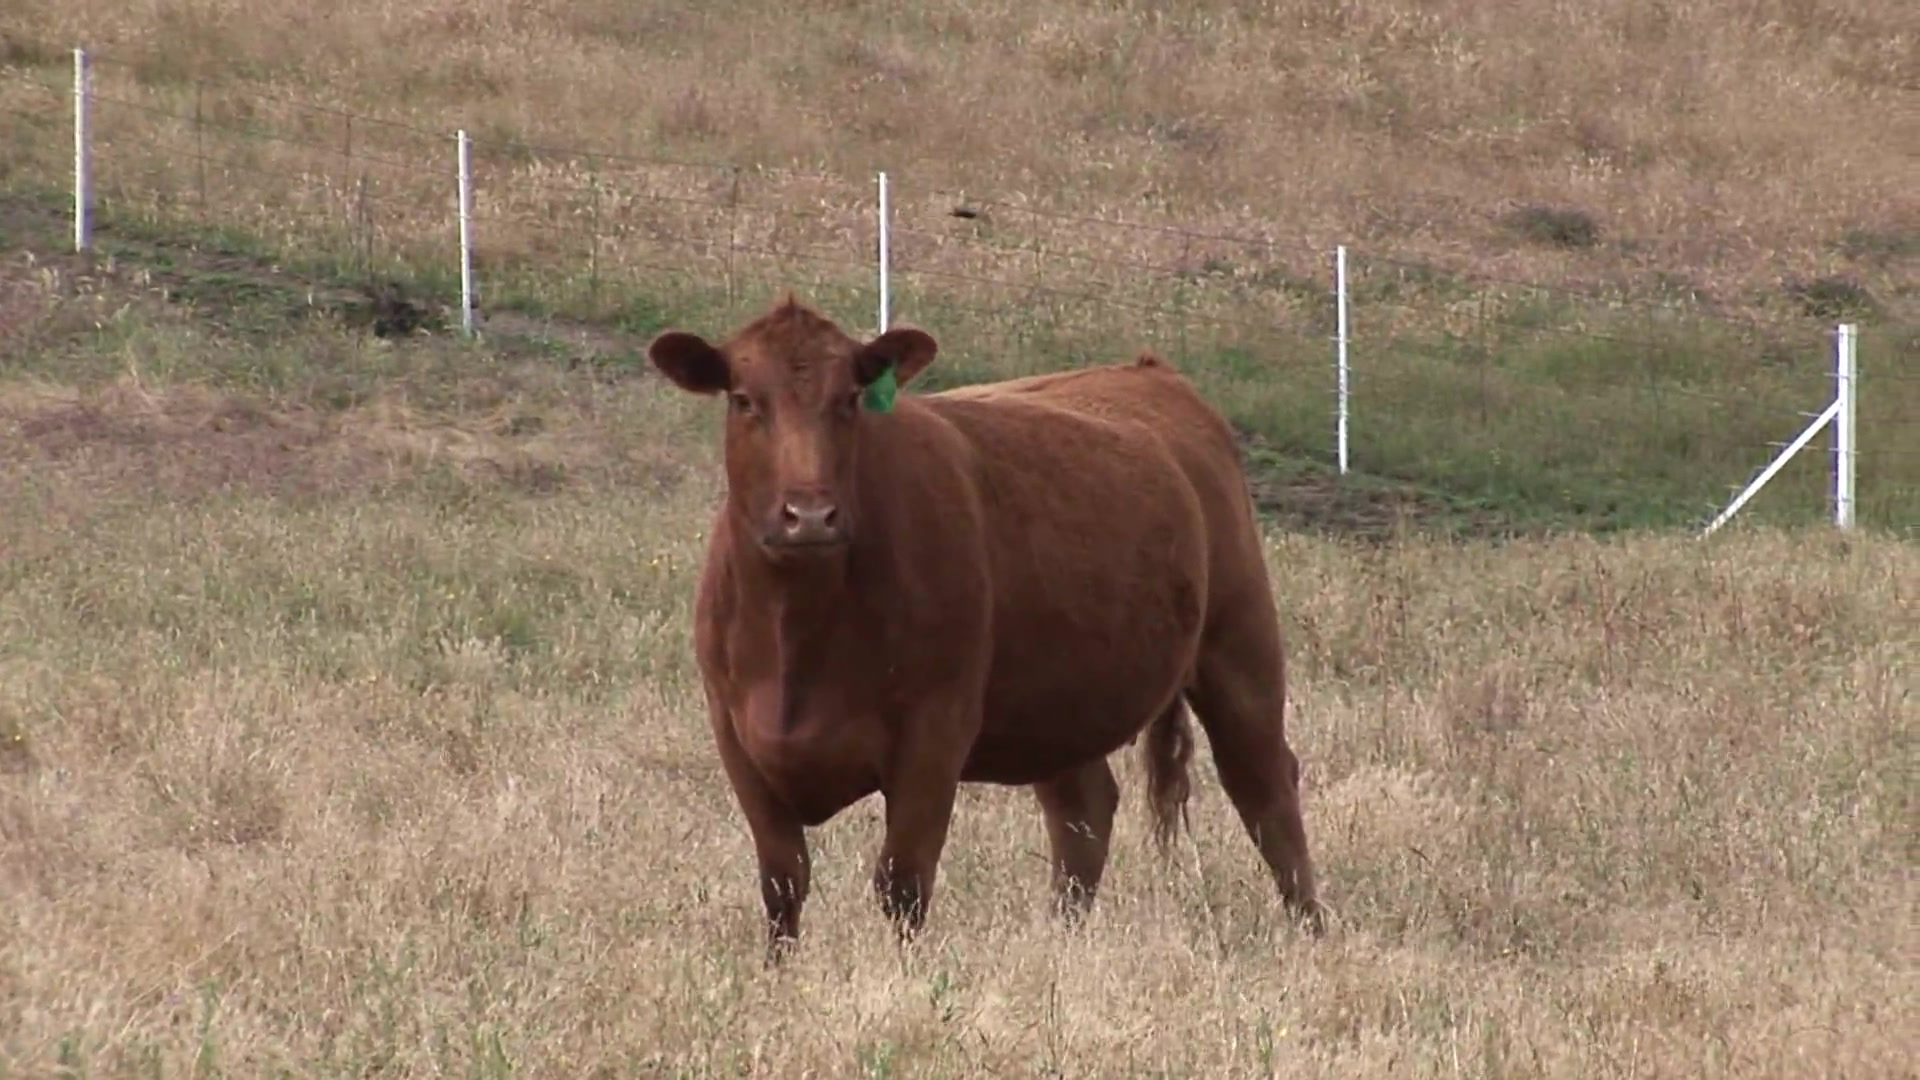cow: (636, 297, 1325, 935)
